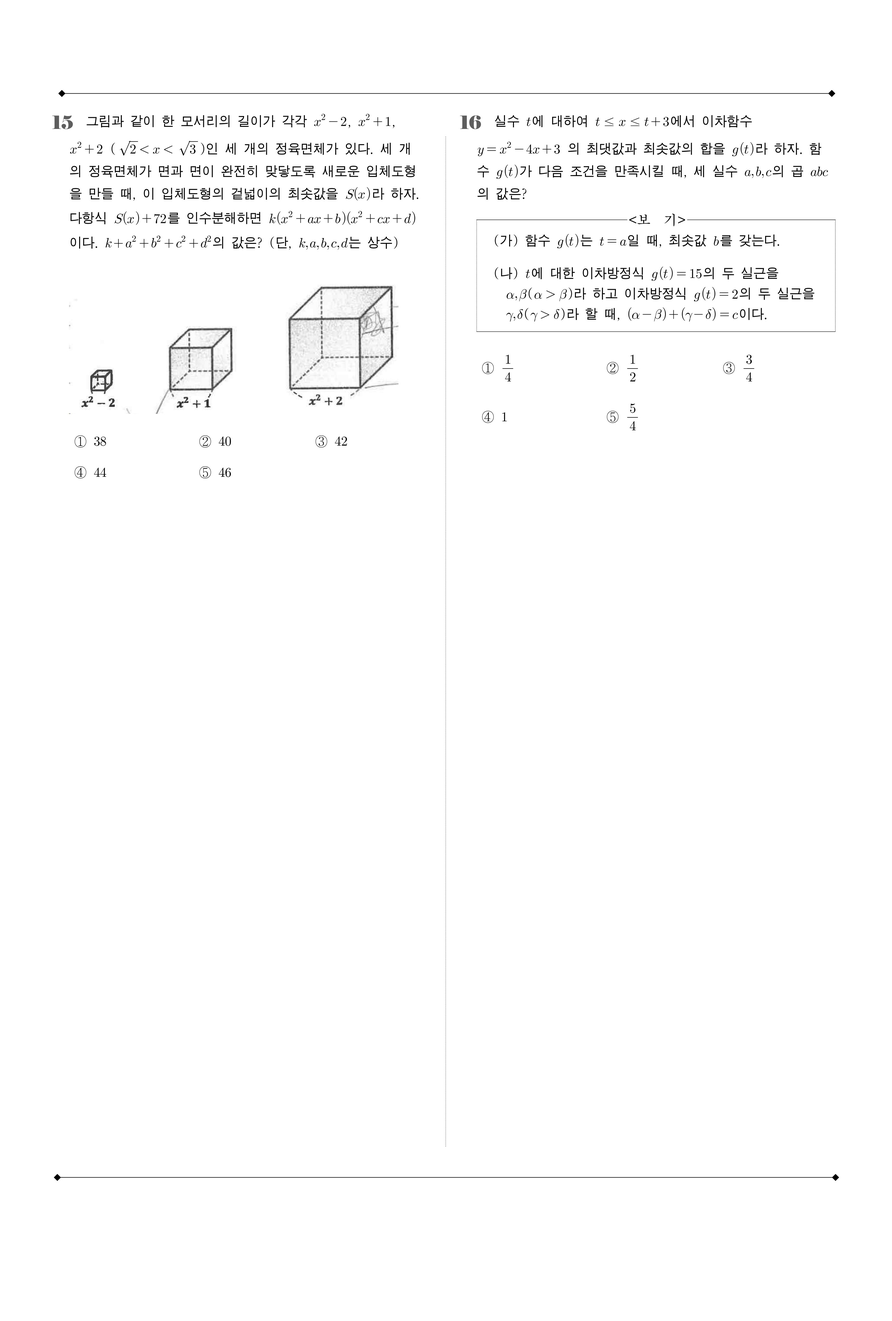problem: (43, 108, 425, 485), (457, 101, 846, 438)
